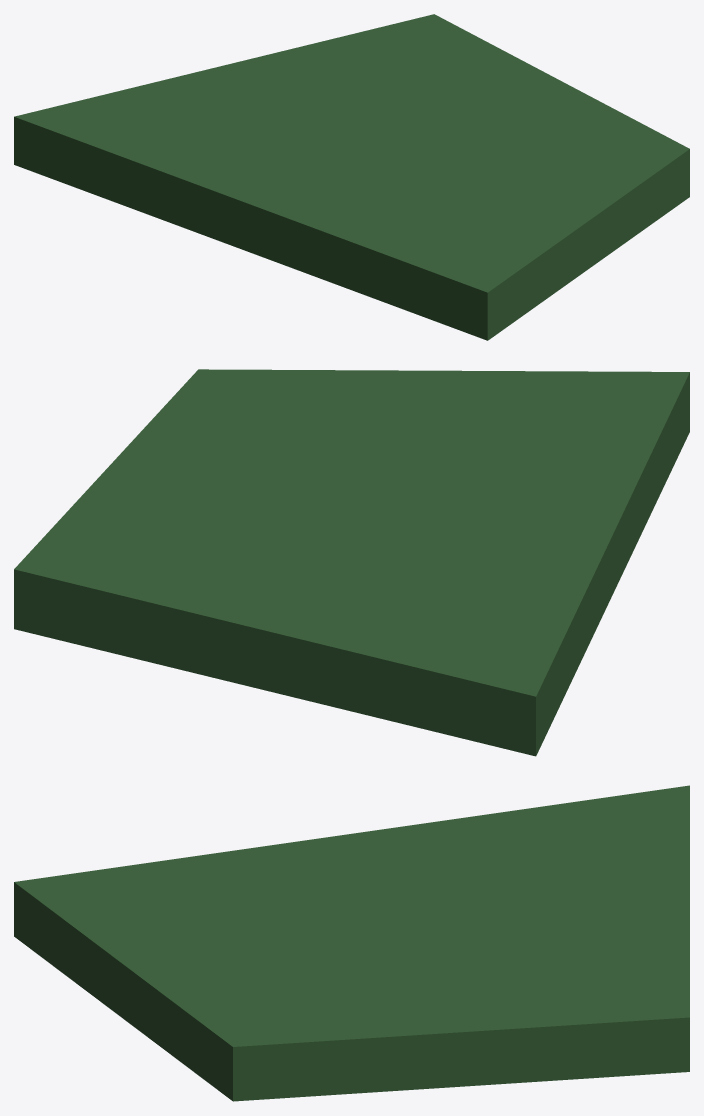
File: x_proval_00_113_1_rmstrd.fbx
3 renders of one model, top to bottom at view 1: azimuth 30°, elevation 25°; view 2: azimuth 150°, elevation 25°; view 3: azimuth 270°, elevation 25°, orthographic. The views are drawn at different scales.
Visible parts, largest first — view 1: x_proval_00_113_1_rmstrd1; view 2: x_proval_00_113_1_rmstrd1; view 3: x_proval_00_113_1_rmstrd1.
Boxes of the visible parts, left/top/right/bottom form: x_proval_00_113_1_rmstrd1: left=14, top=14, right=689, bottom=340; x_proval_00_113_1_rmstrd1: left=14, top=369, right=689, bottom=756; x_proval_00_113_1_rmstrd1: left=14, top=785, right=689, bottom=1101.
Size of the model in its own units: 2.06 by 0.2 by 2.25.
